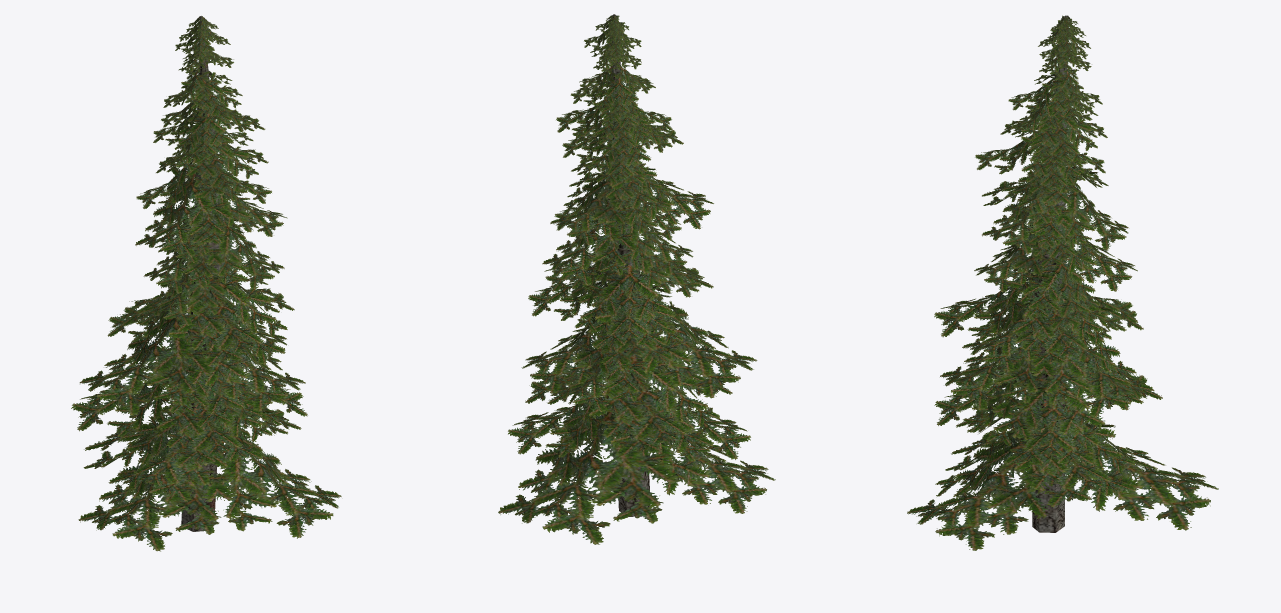
Rendered from abeto_e.glb.
The picture shows the model from 3 angles, left to right: view 1: azimuth 30°, elevation 25°; view 2: azimuth 150°, elevation 25°; view 3: azimuth 270°, elevation 25°; orthographic projection. The views are drawn at different scales.
Visible parts, largest first — view 1: Modelo; view 2: Modelo; view 3: Modelo.
Part boxes in pixels (x1,y1,x2,y2): Modelo: (71, 16, 341, 551); Modelo: (498, 14, 775, 544); Modelo: (907, 15, 1218, 550).
Bounding box in the file's own units: 4.65 × 6.87 × 5.09.
Materials: 1 (1 with a texture image).
